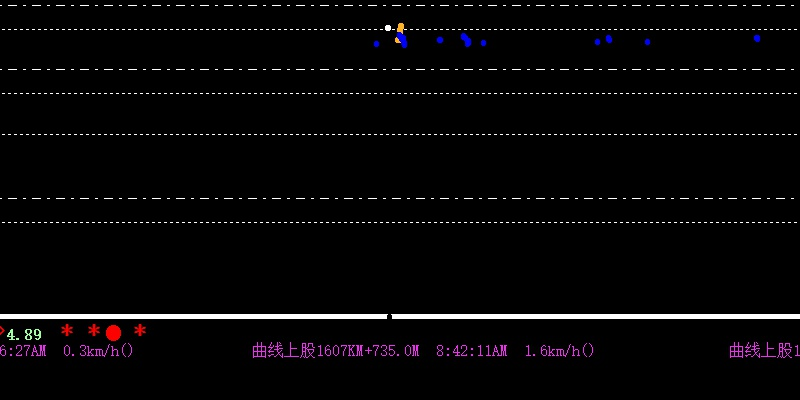circle: (100, 321, 123, 345)
face_down: (457, 21, 472, 48)
star: (57, 320, 78, 342), (84, 320, 102, 342), (130, 322, 148, 339)
